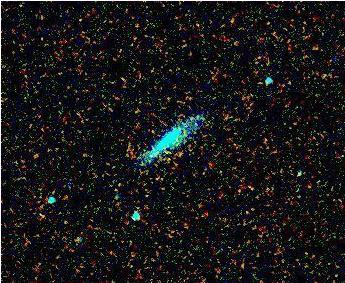star: (138, 117, 168, 147)
